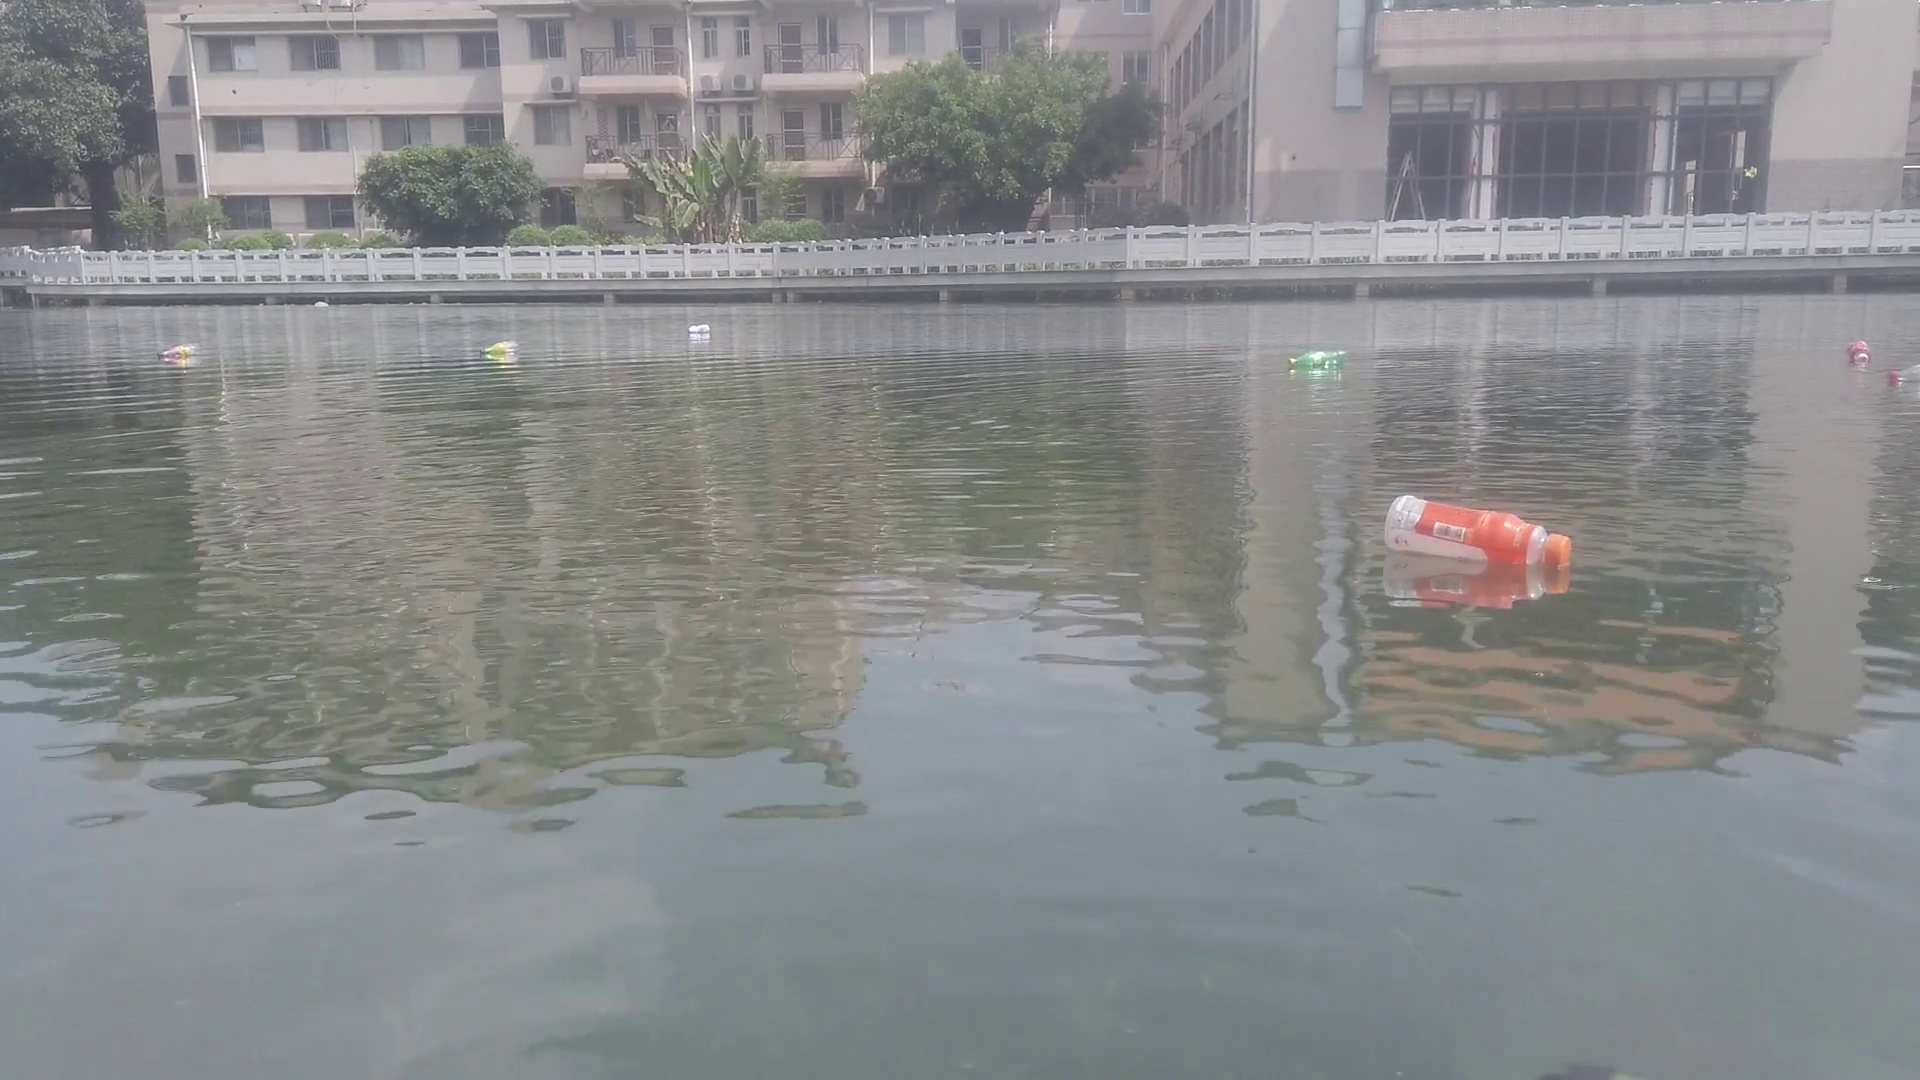bottle: (1385, 495, 1569, 574), (1286, 348, 1346, 375), (1890, 357, 1920, 386), (160, 340, 200, 361), (477, 340, 520, 356), (1847, 339, 1873, 364), (690, 324, 709, 335)
plastic: (313, 299, 328, 309)
